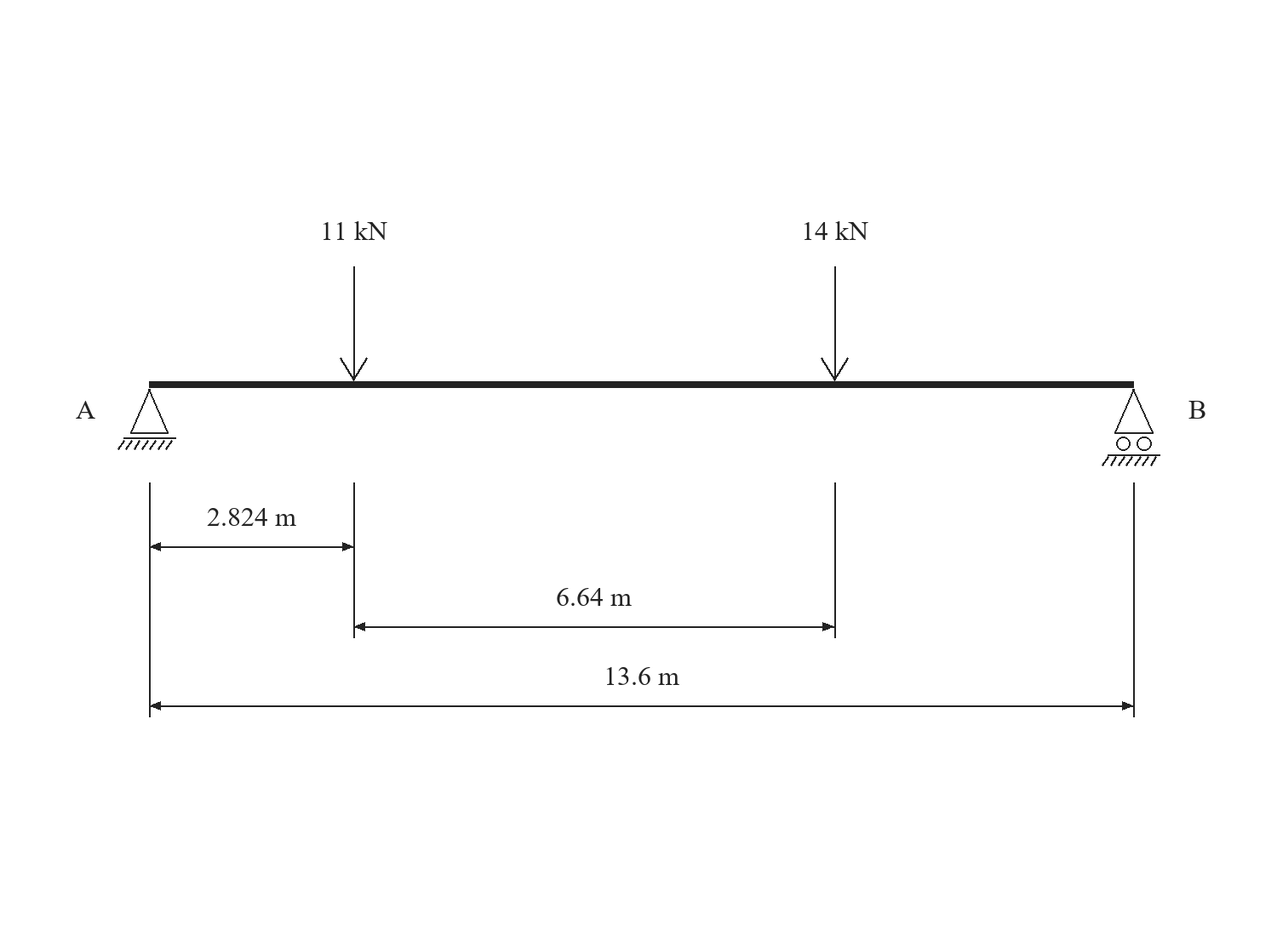pin_support: (117, 389, 176, 450)
point_load: (340, 266, 368, 381), (821, 266, 849, 381)
roller_support: (1102, 389, 1160, 466)
